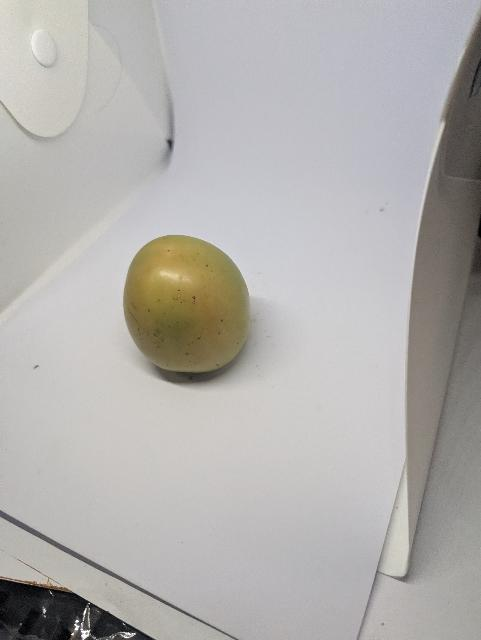breaker: (120, 235, 253, 384)
